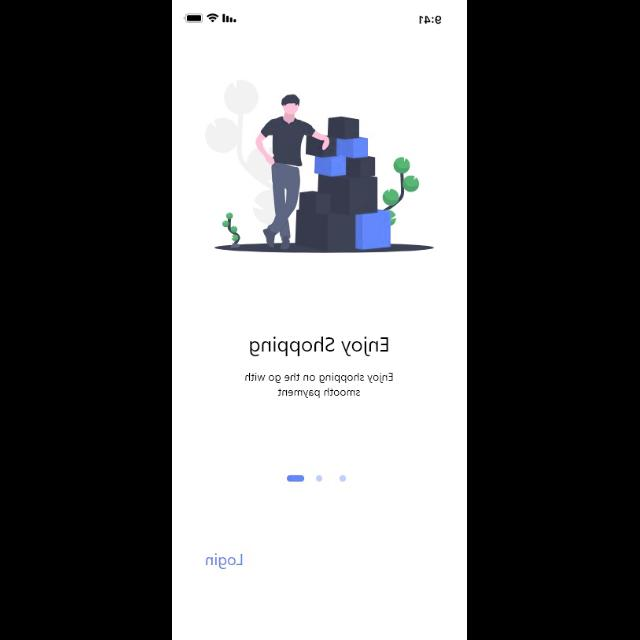image: (206, 80, 434, 254)
pageindicator: (288, 474, 346, 482)
text: (245, 373, 393, 399), (250, 337, 388, 357), (205, 554, 242, 570)
uppertaskbar: (184, 13, 442, 24)
